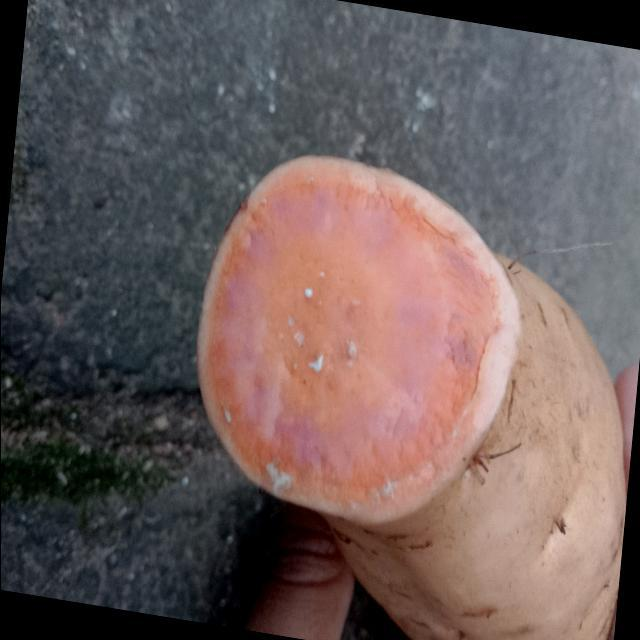Healthy Sweet Potato: (196, 157, 519, 523)
